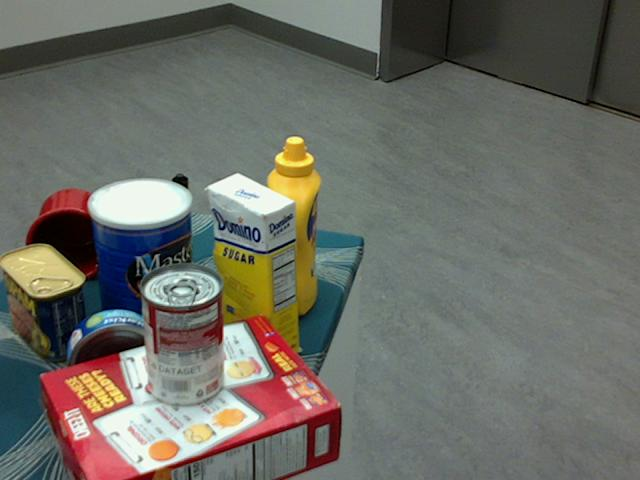cracker_box: (42, 316, 341, 479)
large_marker: (172, 173, 192, 269)
master_chef_can: (86, 178, 194, 341)
mug: (19, 188, 110, 283)
mustard_bottle: (264, 136, 319, 315)
potted_meat_can: (0, 242, 88, 360)
sugar_box: (207, 172, 298, 366)
tomato_soup_can: (138, 264, 222, 407)
tuna_fish_can: (66, 309, 163, 403)
